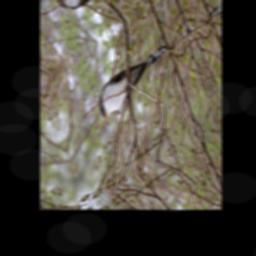Cuckoo: (90, 40, 177, 129)
